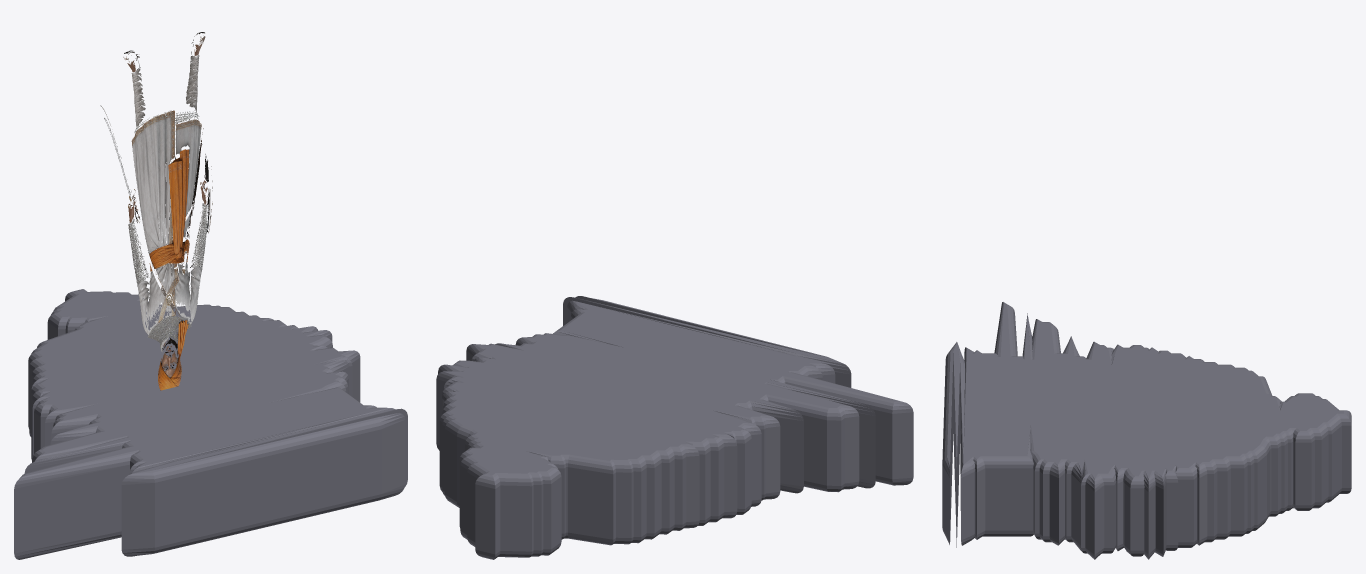
Rendered from india_w.glb.
3 renders of one model, left to right at view 1: azimuth 30°, elevation 25°; view 2: azimuth 150°, elevation 25°; view 3: azimuth 270°, elevation 25°, orthographic. The views are drawn at different scales.
Parts seen in each view (by area): view 1: unit; view 2: unit; view 3: unit.
Part boxes in pixels (<box>): unit: <box>14,32,407,559</box>; unit: <box>436,296,913,559</box>; unit: <box>942,302,1351,559</box>.
Bounding box in the file's own units: 0.9247 × 1 × 0.8621.
Materials: 2 (1 with a texture image).
